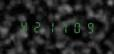four: (17, 19, 29, 33)
nine: (83, 20, 95, 34)
one: (44, 19, 56, 33)
seven: (57, 20, 69, 34)
two: (30, 19, 42, 33)
zero: (70, 20, 82, 34)
